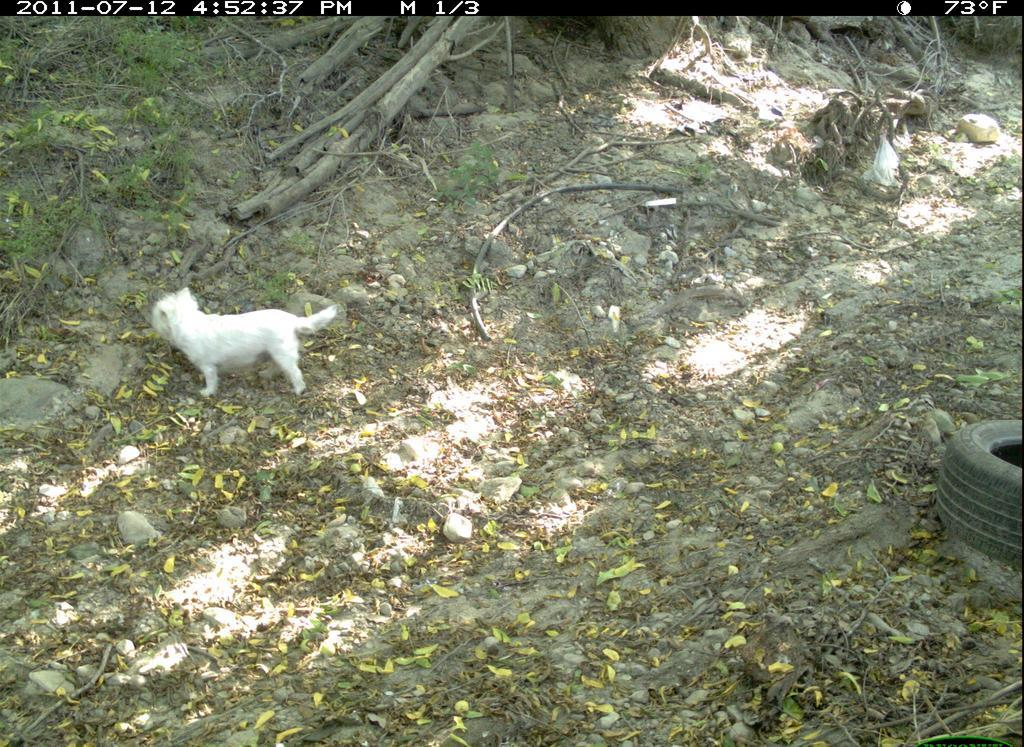dog: (148, 281, 347, 420)
